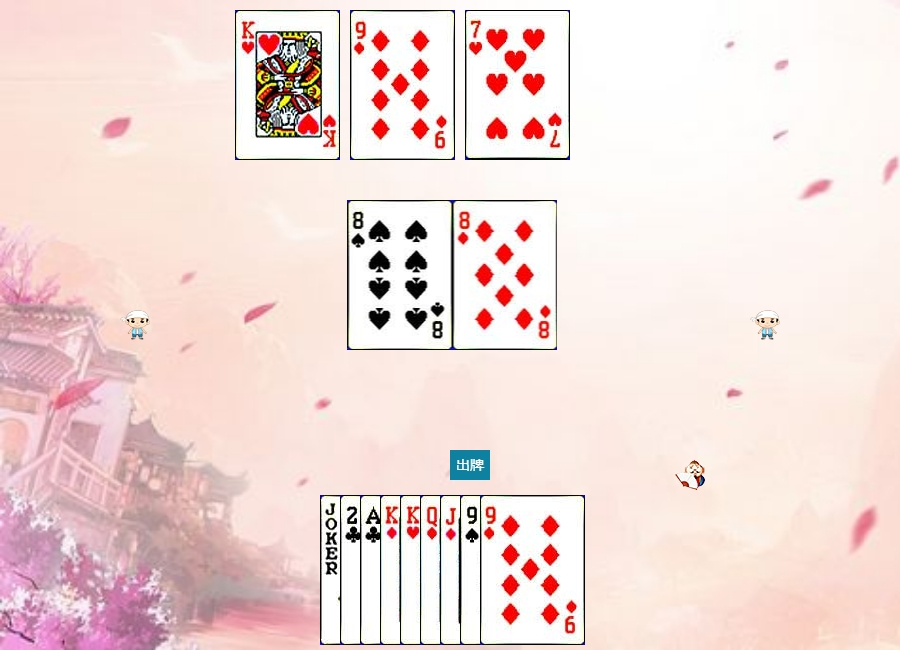11~1: (440, 495, 545, 645)
12~1: (420, 495, 525, 645)
13~1: (380, 495, 485, 645)
13~3: (235, 10, 340, 160), (400, 495, 505, 645)
14~2: (360, 495, 465, 645)
15~2: (340, 495, 445, 645)
17~3: (320, 495, 425, 645)
7~3: (465, 10, 570, 160)
8~1: (453, 200, 558, 350)
8~4: (348, 200, 453, 350)
9~1: (350, 10, 455, 160), (480, 495, 585, 645)
9~4: (460, 495, 565, 645)
